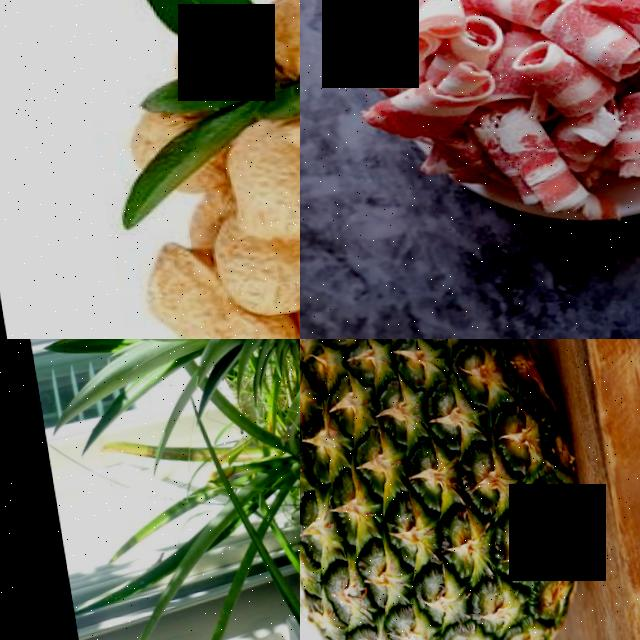peanuts: (211, 122, 300, 244), (120, 241, 222, 339), (202, 225, 300, 325)
pineapple: (300, 339, 602, 640)
pork belly: (462, 99, 578, 224), (573, 0, 640, 131), (382, 0, 472, 65)
